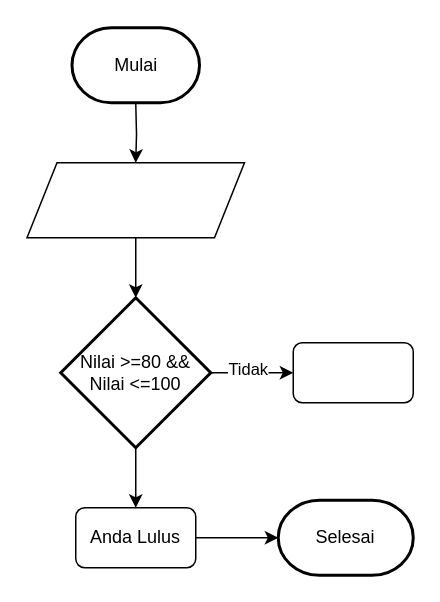
Some shapes in this 440 by 602 pixel diagram are drawn without their labels. The shapes that lost their labels are listed below. From the top down, each one's centre as x and y in pixels, then its label:
pixel 135 199: Masukan Nilai anda
pixel 352 372: Anda Remed
